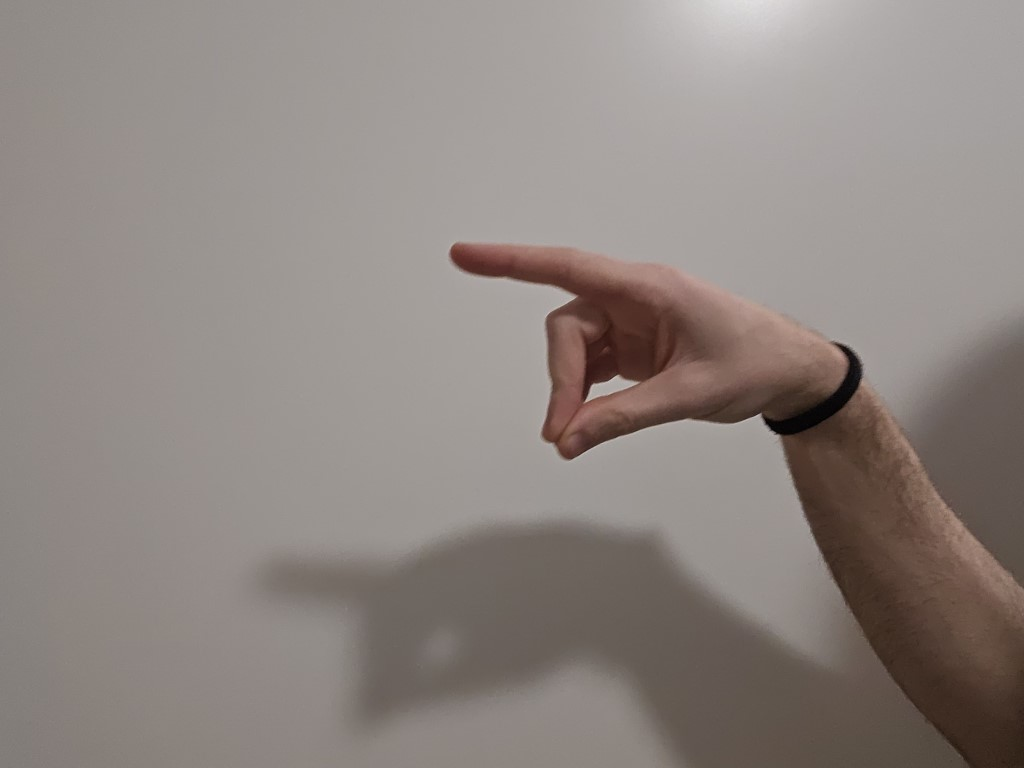p: (414, 214, 778, 490)
